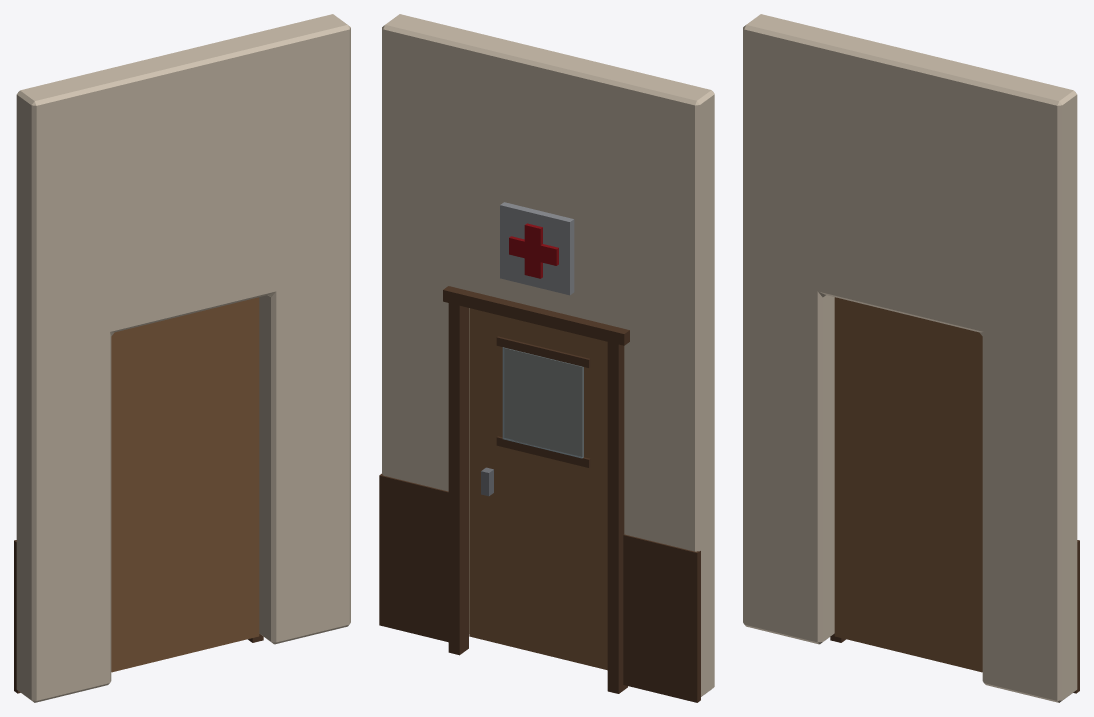
Rendered from SM_K_ClinicDoor.obj.
3 views of the same model, side by side, from view 1: azimuth 30°, elevation 25°; view 2: azimuth 150°, elevation 25°; view 3: azimuth 330°, elevation 25° (orthographic).
Visible parts, largest first — view 1: SM_K_ClinicDoor; view 2: SM_K_ClinicDoor; view 3: SM_K_ClinicDoor.
Part boxes in pixels (bbox=[...]): SM_K_ClinicDoor: bbox=[14, 14, 350, 702]; SM_K_ClinicDoor: bbox=[379, 14, 714, 702]; SM_K_ClinicDoor: bbox=[743, 14, 1079, 702].
Bounding box in the file's own units: 2 × 3.63 × 0.27.
